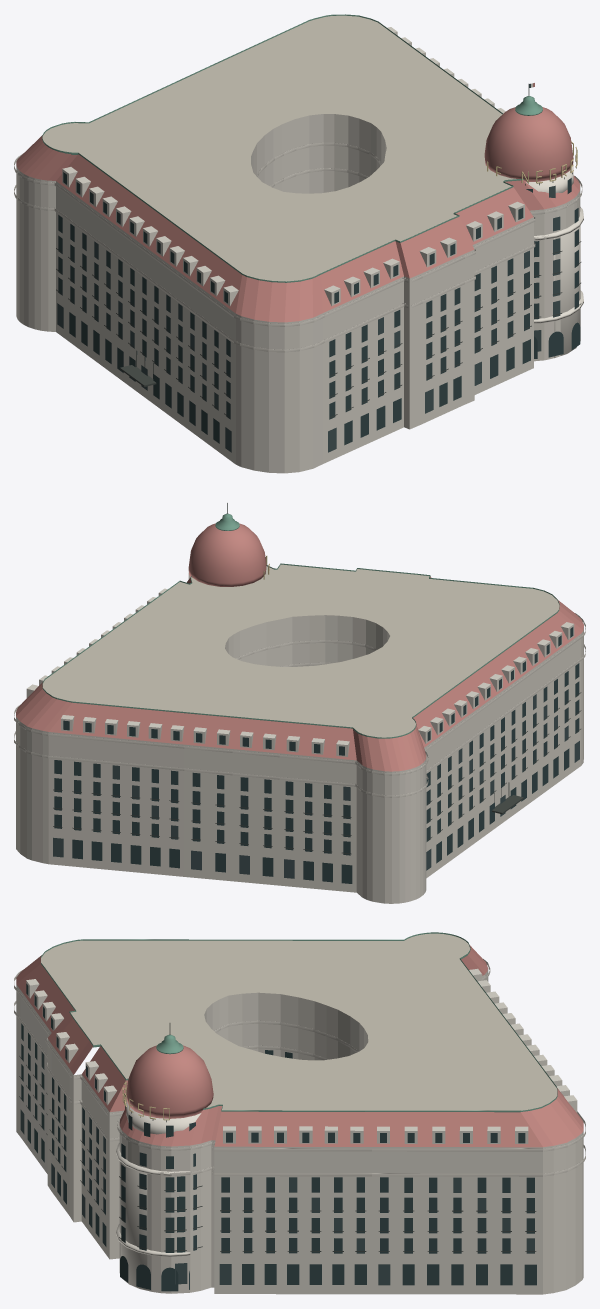
The model's file is hotel-negresco-far.glb.
3 views of the same model, one above another, from view 1: azimuth 30°, elevation 25°; view 2: azimuth 150°, elevation 25°; view 3: azimuth 270°, elevation 25° (orthographic). The views are drawn at different scales.
Visible parts, largest first — view 1: hotel-negresco-0-stone, hotel-negresco-0-shadow, hotel-negresco-0-pink, hotel-negresco-0-glass, hotel-negresco-0-glow, hotel-negresco-0-copper, hotel-negresco-0-iron; view 2: hotel-negresco-0-stone, hotel-negresco-0-shadow, hotel-negresco-0-pink, hotel-negresco-0-glass, hotel-negresco-0-glow, hotel-negresco-0-copper, hotel-negresco-0-iron; view 3: hotel-negresco-0-stone, hotel-negresco-0-shadow, hotel-negresco-0-pink, hotel-negresco-0-glass, hotel-negresco-0-copper, hotel-negresco-0-glow, hotel-negresco-0-iron.
Boxes of the visible parts, left/top/right/bottom form: hotel-negresco-0-stone: left=14, top=27, right=583, bottom=473; hotel-negresco-0-shadow: left=42, top=15, right=516, bottom=281; hotel-negresco-0-pink: left=16, top=83, right=580, bottom=322; hotel-negresco-0-glass: left=58, top=83, right=580, bottom=445; hotel-negresco-0-glow: left=57, top=185, right=560, bottom=452; hotel-negresco-0-copper: left=42, top=14, right=542, bottom=282; hotel-negresco-0-iron: left=56, top=84, right=581, bottom=417; hotel-negresco-0-stone: left=14, top=572, right=585, bottom=903; hotel-negresco-0-shadow: left=43, top=564, right=559, bottom=737; hotel-negresco-0-pink: left=16, top=523, right=583, bottom=771; hotel-negresco-0-glass: left=54, top=627, right=579, bottom=883; hotel-negresco-0-glow: left=53, top=694, right=579, bottom=878; hotel-negresco-0-copper: left=42, top=513, right=559, bottom=738; hotel-negresco-0-iron: left=53, top=503, right=581, bottom=854; hotel-negresco-0-stone: left=14, top=958, right=585, bottom=1294; hotel-negresco-0-shadow: left=41, top=933, right=557, bottom=1110; hotel-negresco-0-pink: left=16, top=945, right=583, bottom=1147; hotel-negresco-0-glass: left=21, top=983, right=536, bottom=1291; hotel-negresco-0-copper: left=41, top=932, right=557, bottom=1112; hotel-negresco-0-glow: left=20, top=1051, right=534, bottom=1285; hotel-negresco-0-iron: left=19, top=1023, right=536, bottom=1251.
Size of the model in its own units: 69.3 by 40.6 by 84.46.
